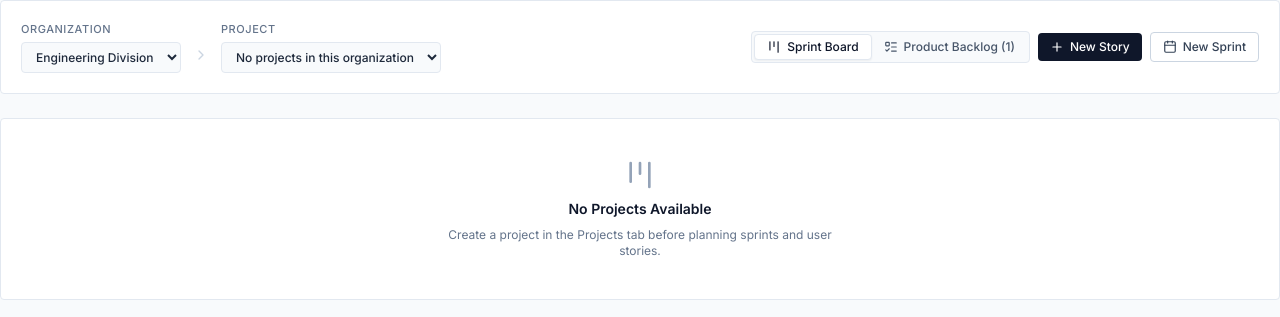
Test case: Phase 3: Requirements & Sprint Planning Components › switches to Product Backlog view and displays unassigned stories
The image size is (1280, 317).
Click the button "Product Backlog (1)".
click(949, 47)  # box [872,34,1027,60]
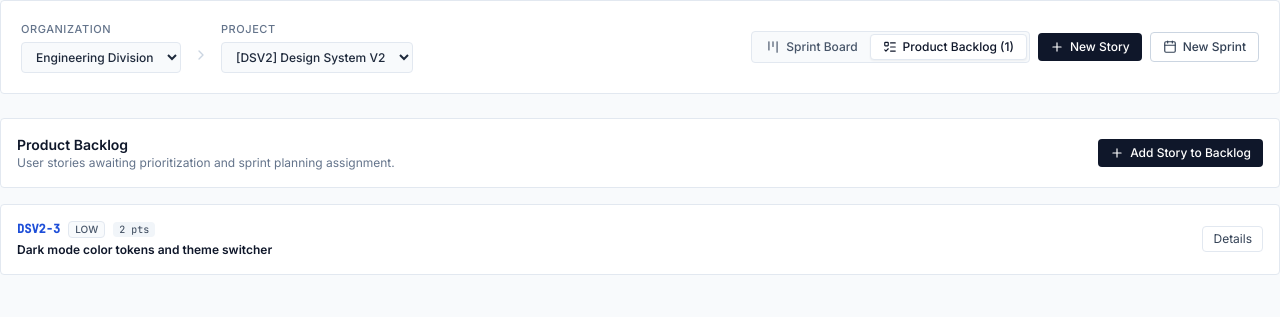
Result: the heading "Dark mode color tokens and theme switcher" is shown at [17,242,272,256]
Result: the text "DSV2-3" is shown at [17,221,60,237]
